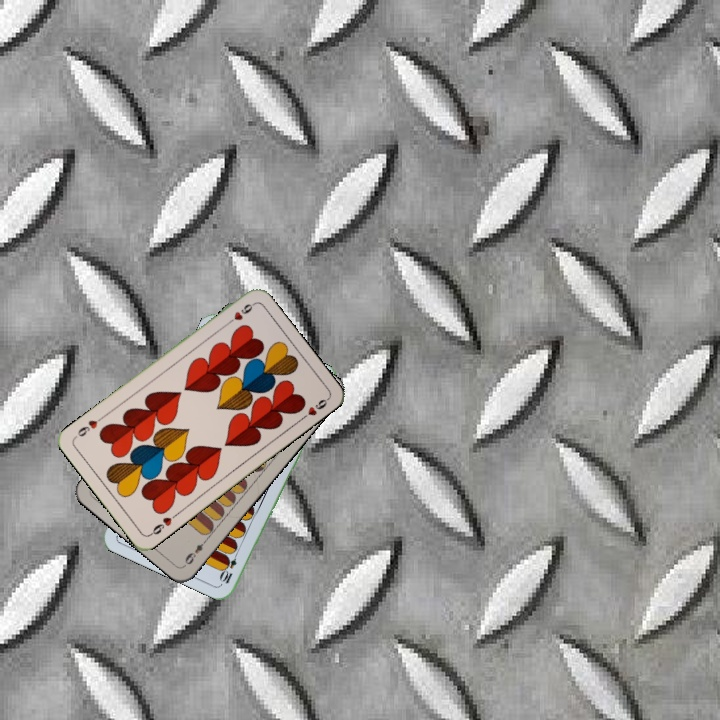E10: (217, 546, 241, 586)
E9: (181, 534, 210, 567)
H9: (145, 509, 180, 538), (222, 299, 257, 328)
